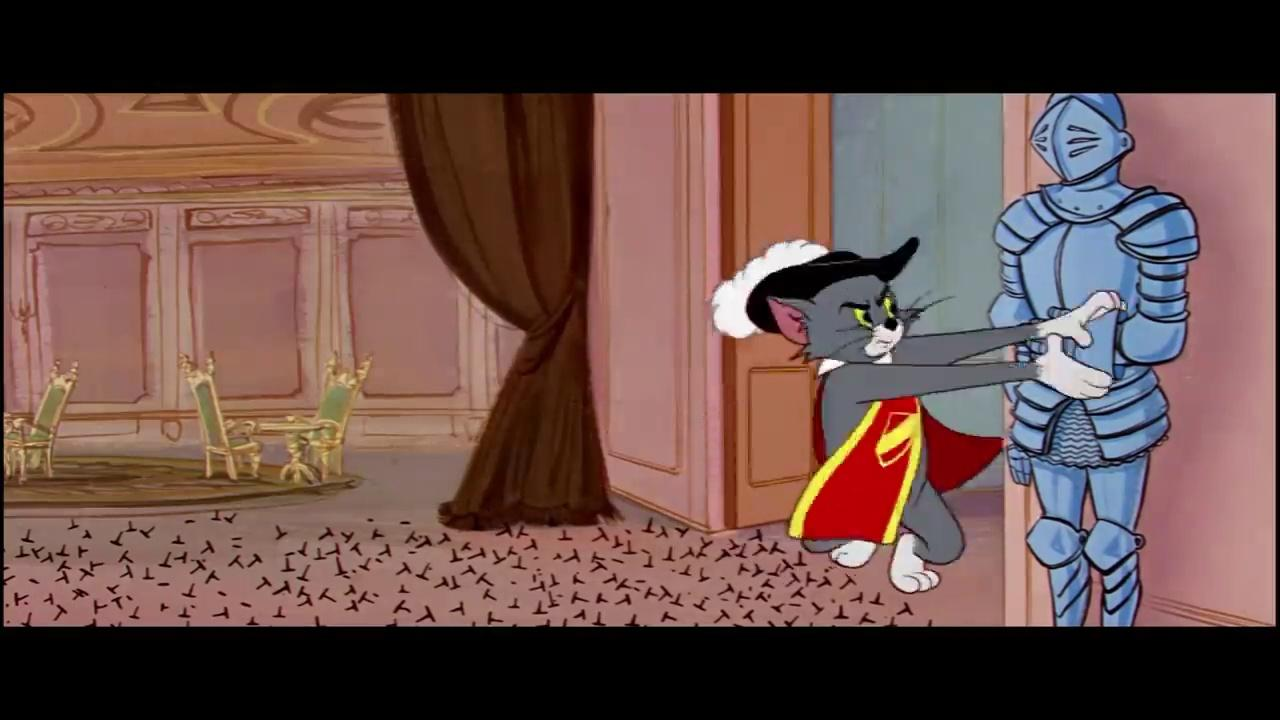Tom: (764, 268, 1131, 595)
